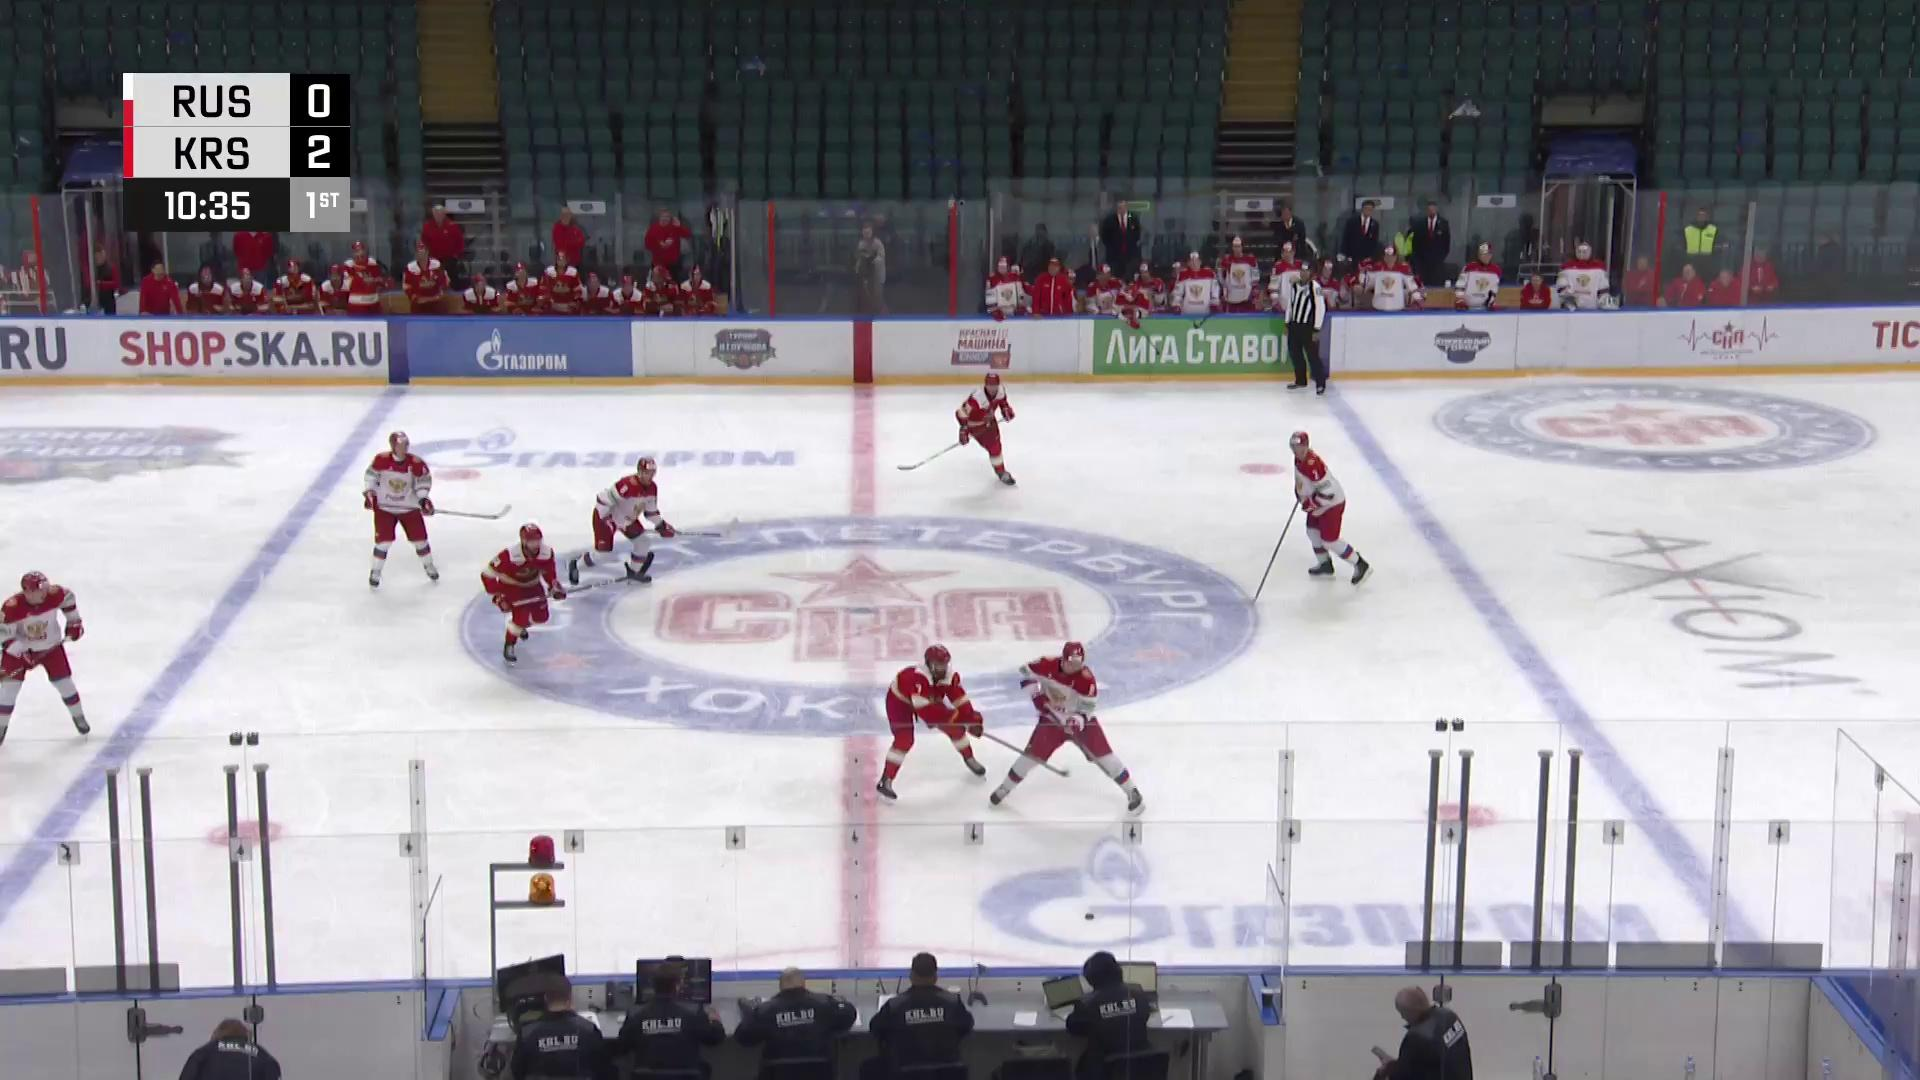ball: (1081, 911, 1096, 922)
